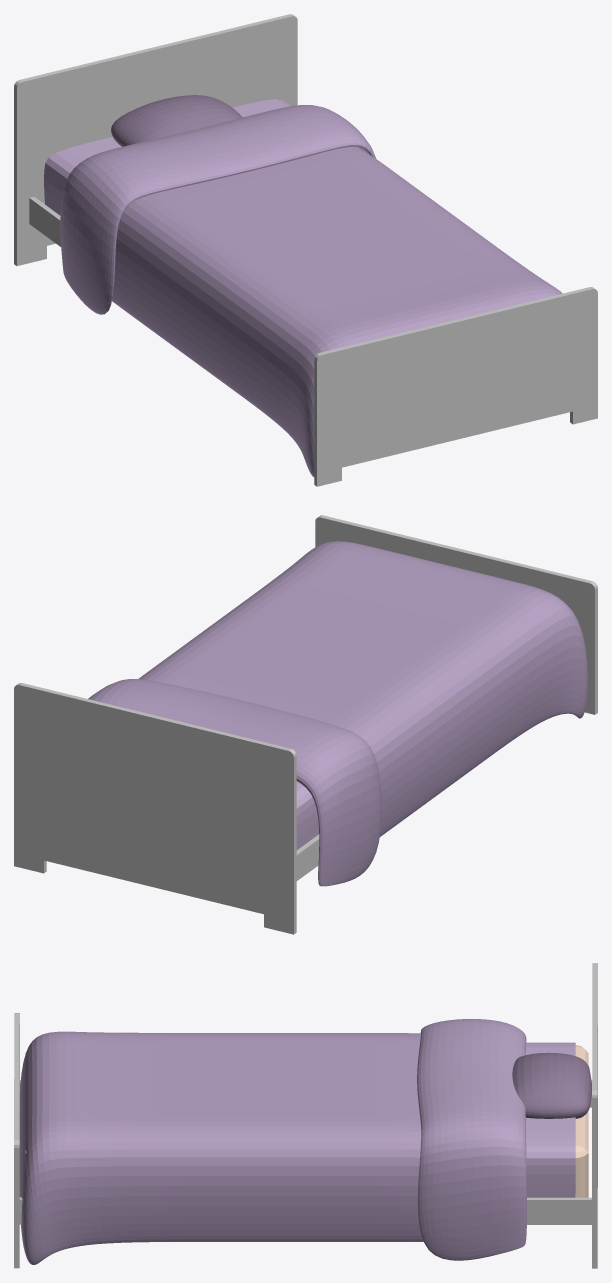
File: juniorBed.obj
The picture shows the model from 3 angles, top to bottom: view 1: azimuth 30°, elevation 25°; view 2: azimuth 150°, elevation 25°; view 3: azimuth 270°, elevation 25°; orthographic projection. The views are drawn at different scales.
Parts seen in each view (by area): view 1: Plane.003_Plane.004, Cube_Cube.001, Cube.010_Cube.011, Plane.004_Plane.005, Cube.001_Cube.000; view 2: Plane.003_Plane.004, Cube_Cube.001, Plane.004_Plane.005, Cube.001_Cube.000; view 3: Plane.003_Plane.004, Cube.010_Cube.011, Plane.004_Plane.005, Cube_Cube.001, Cube.001_Cube.000, Cube.007_Cube.004.
Part boxes in pixels (x1,y1,x2,y2): Plane.003_Plane.004: (60, 105, 562, 477); Cube_Cube.001: (14, 14, 597, 486); Cube.010_Cube.011: (111, 95, 242, 146); Plane.004_Plane.005: (44, 99, 289, 215); Cube.001_Cube.000: (29, 196, 61, 246); Plane.003_Plane.004: (88, 541, 587, 886); Cube_Cube.001: (14, 515, 597, 934); Plane.004_Plane.005: (296, 781, 318, 849); Cube.001_Cube.000: (296, 834, 319, 880); Plane.003_Plane.004: (19, 1019, 526, 1264); Cube.010_Cube.011: (512, 1052, 591, 1118); Plane.004_Plane.005: (525, 1042, 575, 1197); Cube_Cube.001: (14, 963, 597, 1268); Cube.001_Cube.000: (19, 1080, 592, 1224); Cube.007_Cube.004: (25, 1045, 588, 1197).
Size of the model in its own units: 106 by 65.61 by 198.
